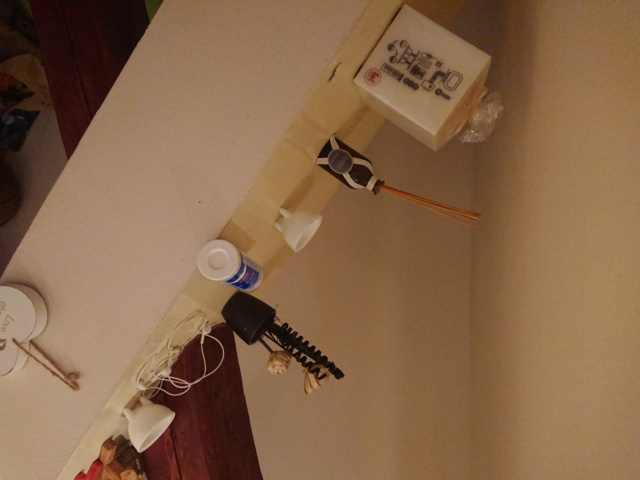Solana Pag Fine Sea Salt 250g: (195, 237, 266, 294)
